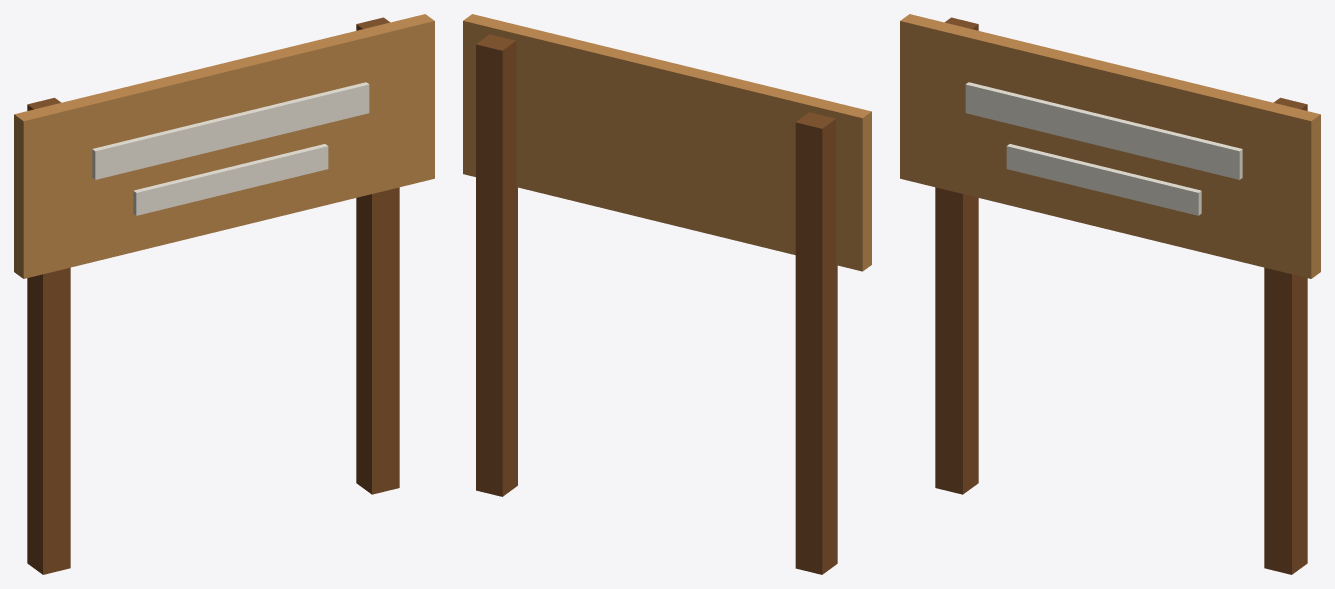
File: farm_sign.glb
The picture shows the model from 3 angles, left to right: view 1: azimuth 30°, elevation 25°; view 2: azimuth 150°, elevation 25°; view 3: azimuth 330°, elevation 25°; orthographic projection. The views are drawn at different scales.
Parts seen in each view (by area): view 1: farm_sign; view 2: farm_sign; view 3: farm_sign.
Boxes of the visible parts, x1,y1,x2,y2 form: farm_sign: (14, 14, 434, 574); farm_sign: (463, 14, 871, 574); farm_sign: (900, 14, 1320, 574).
Bounding box in the file's own units: 1.5 × 1.62 × 0.17.
